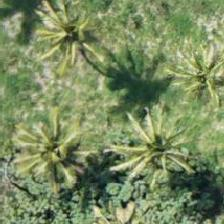coconut_tree: (3, 100, 93, 190), (109, 103, 199, 193), (16, 0, 106, 78), (159, 29, 223, 119)
